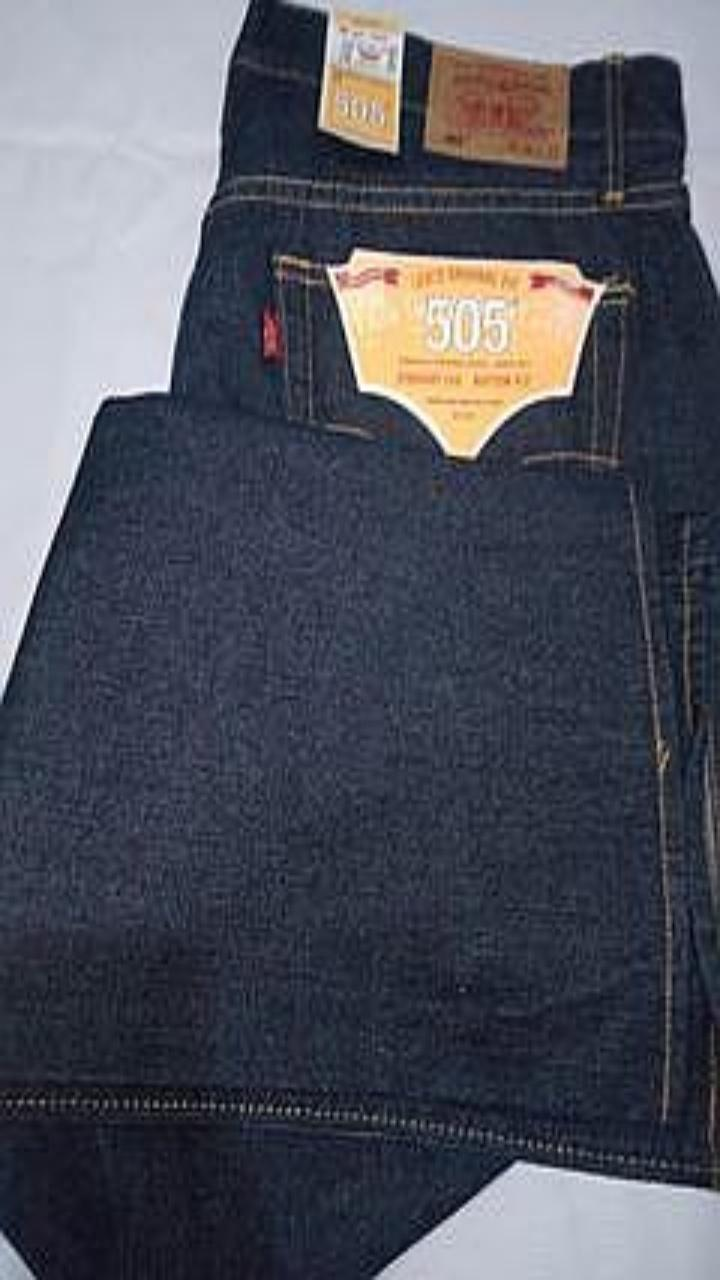Jeans: (0, 3, 719, 1279)
